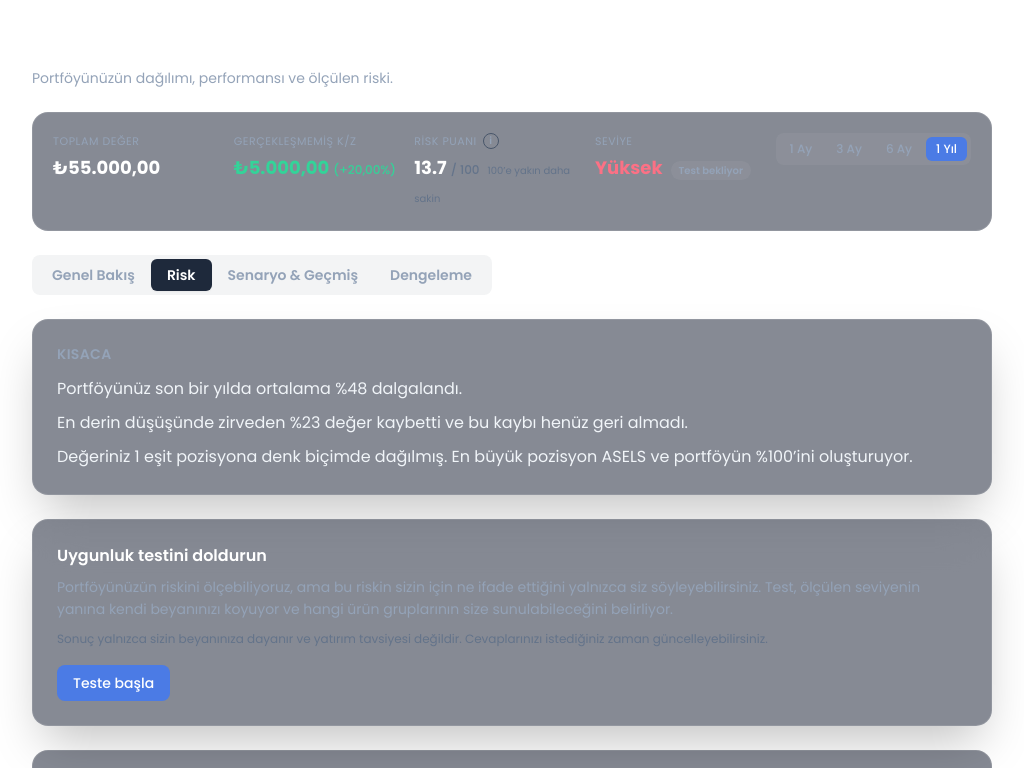
Test: Analiz > Risk — uyum karşılaştırması › bozuk bir anket yanıtı sayfayı çökertmez
Click the button "Teste başla" at (114, 682), box [57,664,170,700]
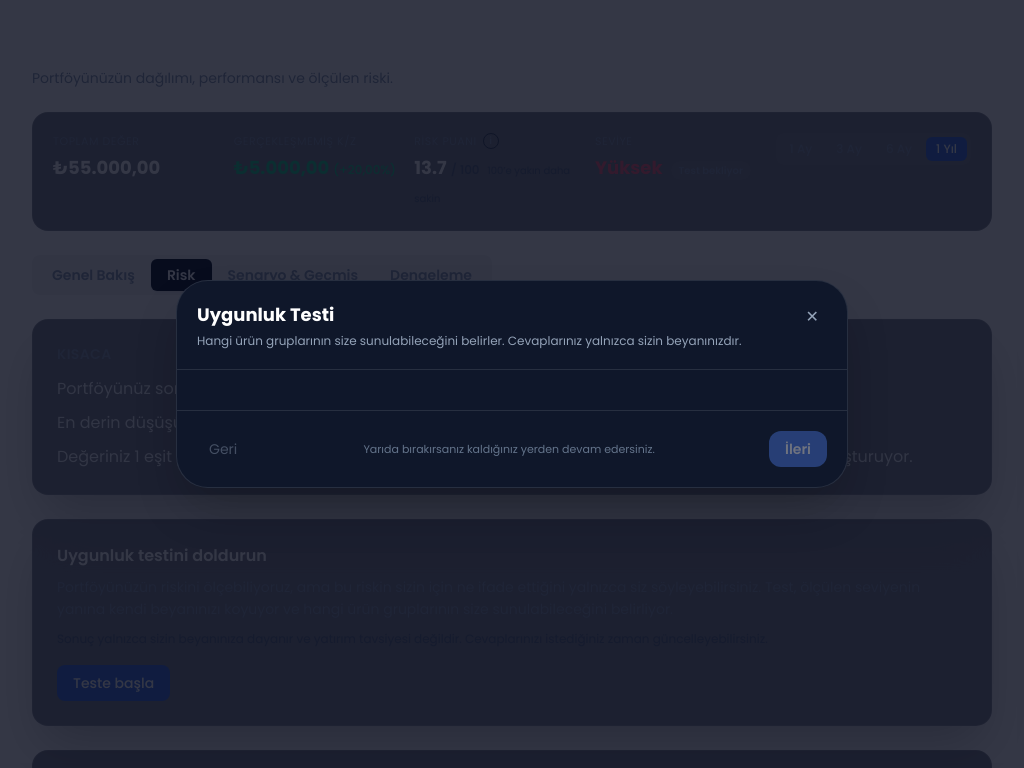
Check: the dialog is shown, box [176,280,848,488]
